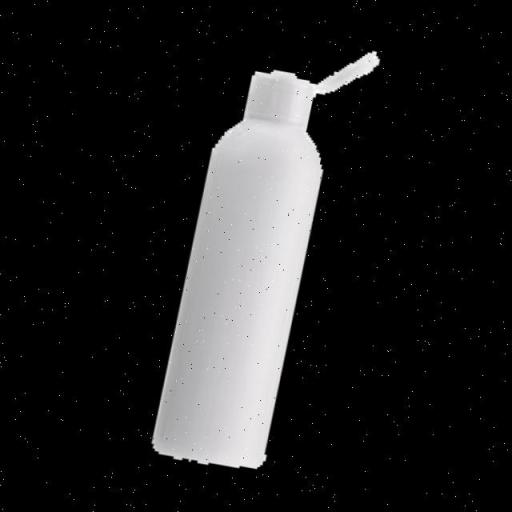plastic: (152, 28, 378, 480)
